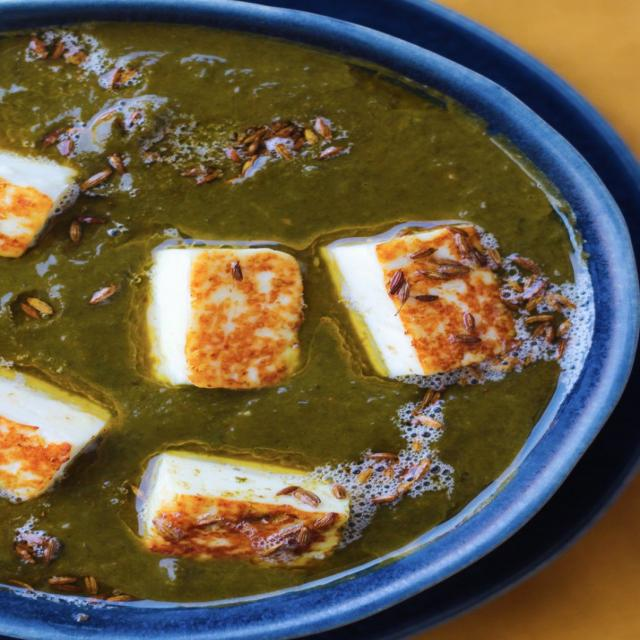Palak Paneer: (1, 0, 604, 640)
